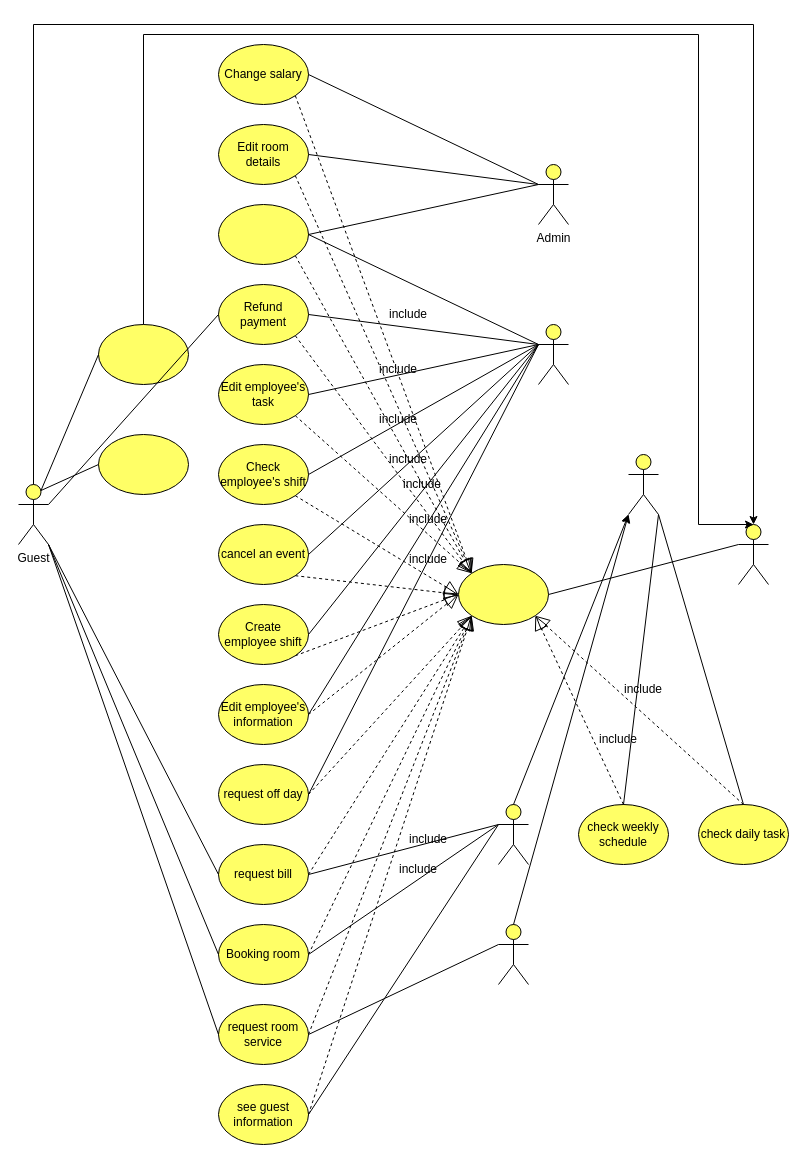
Image size: 806x1162. Some labels were removed from this diagram. The shapes that lost their labels are listed below. From the top down, each one's centre as x and y in pixels, then its label:
At pixel 263 234: "Get report of employee's task".
At pixel 143 354: "Create guest account".
At pixel 553 354: "Manager".
At pixel 143 464: "Check the events".
At pixel 643 484: "Employee".
At pixel 753 554: "User".
At pixel 503 594: "log into the system".
At pixel 513 834: "Receptionist".
At pixel 513 954: "Staff".
